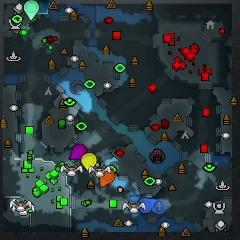Other: (151, 200, 166, 215)
p1: (137, 197, 157, 214)
p2: (24, 0, 39, 20)
p3: (68, 144, 87, 160)
p4: (82, 153, 96, 170)
p5: (99, 167, 116, 187)
